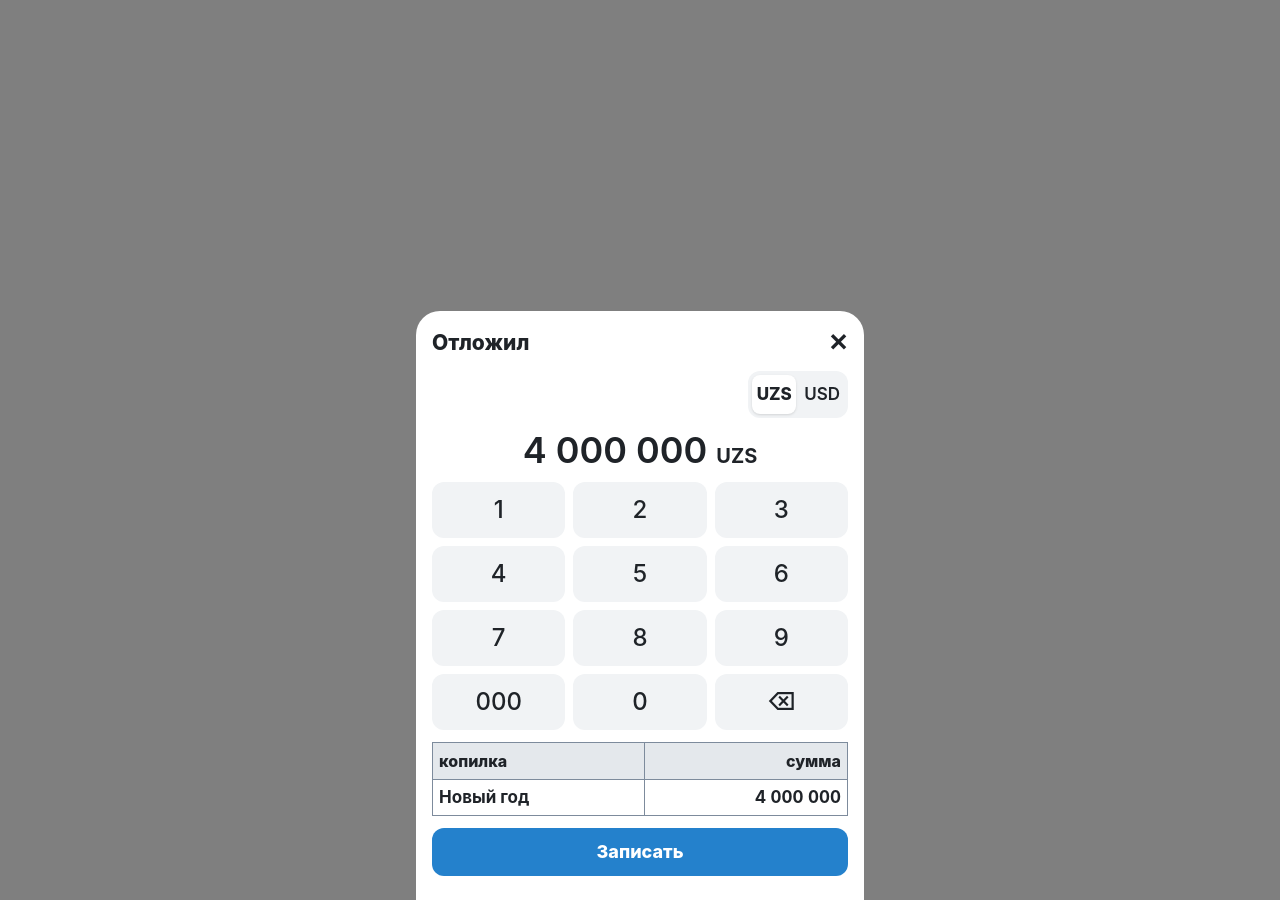
Scenario: SaveSheet › tops a short piggy up to its shortfall less what it got ahead
Click the button "000".
click(499, 702)  # box [432,674,565,730]
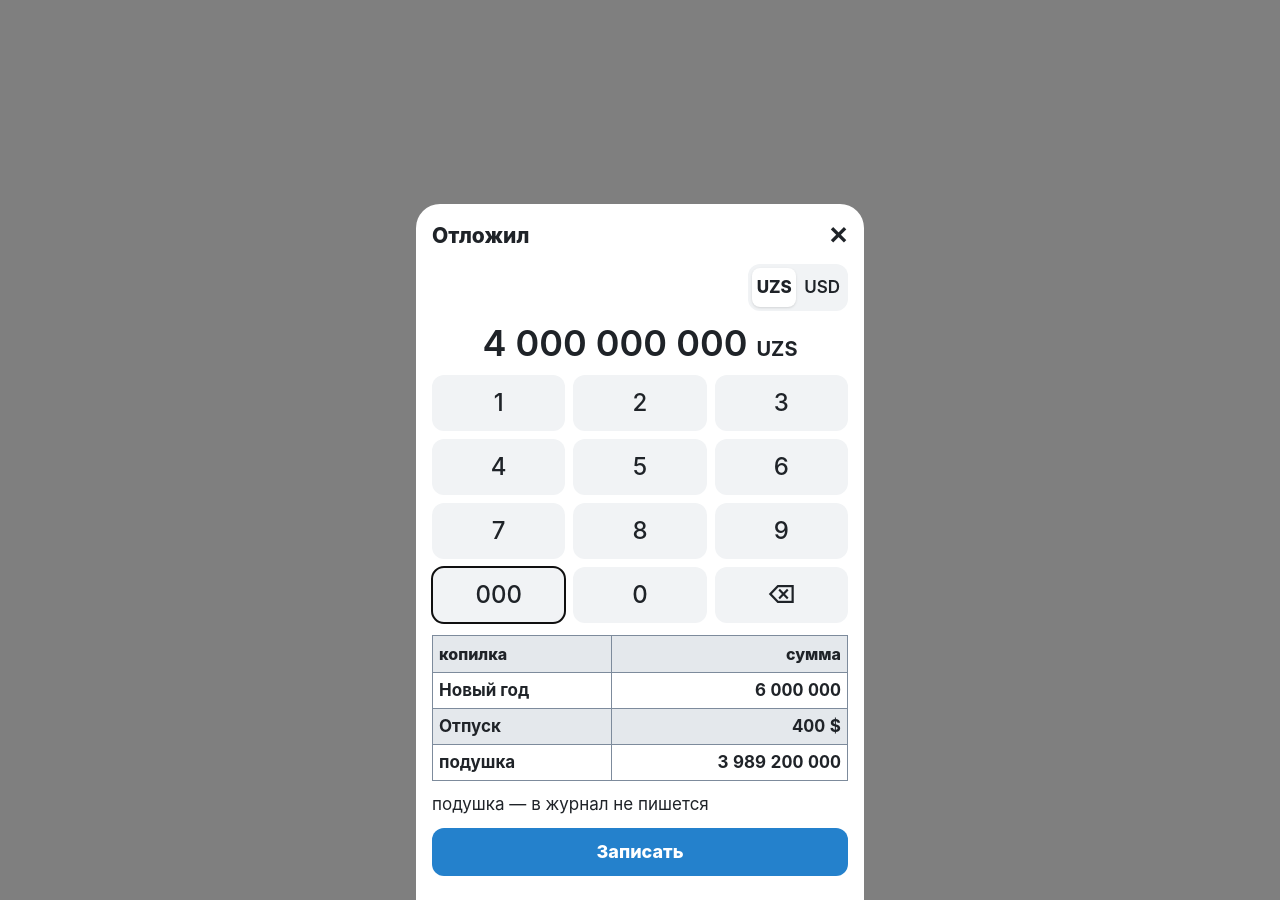
Check: the cell "подушка" is shown, box [432,745,611,780]
